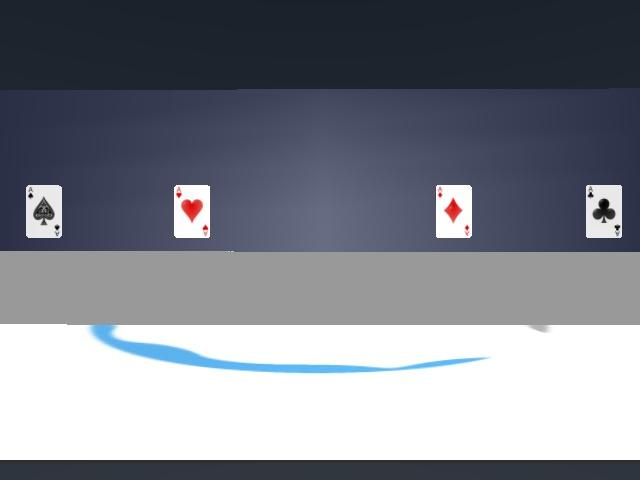club: (585, 185, 621, 237), (26, 185, 61, 238)
diamond: (436, 185, 472, 237)
heart: (174, 185, 210, 237)
